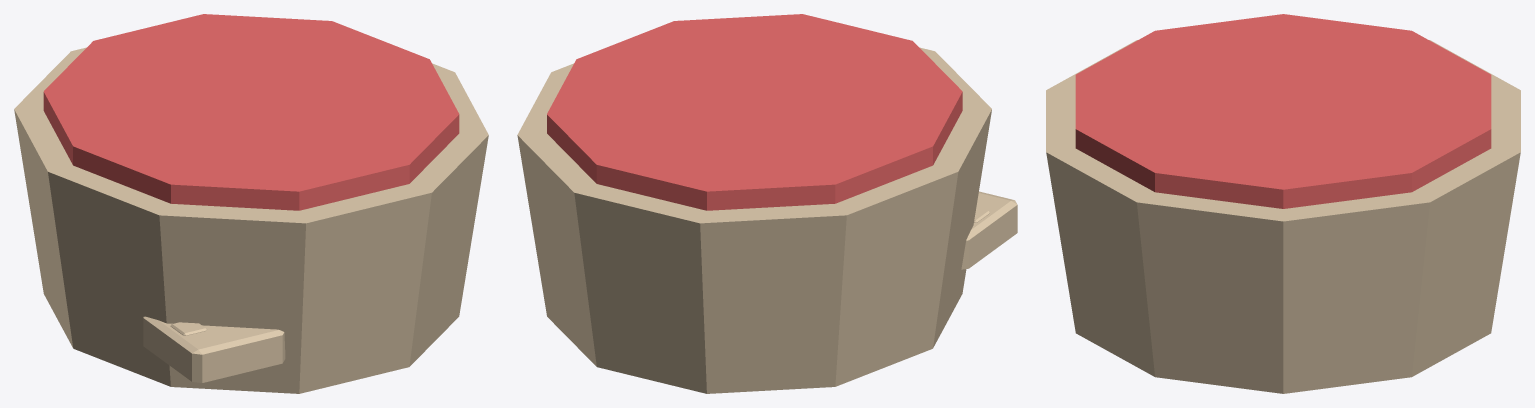
File: b16_lidded_salad_bowl.glb
3 views of the same model, side by side, from view 1: azimuth 30°, elevation 25°; view 2: azimuth 150°, elevation 25°; view 3: azimuth 270°, elevation 25° (orthographic).
Parts seen in each view (by area): view 1: b16_lidded_salad_bowl; view 2: b16_lidded_salad_bowl; view 3: b16_lidded_salad_bowl.
Part boxes in pixels (bbox=[...]): b16_lidded_salad_bowl: bbox=[14, 14, 488, 393]; b16_lidded_salad_bowl: bbox=[517, 14, 1017, 393]; b16_lidded_salad_bowl: bbox=[1046, 14, 1520, 393].
Size of the model in its own units: 0.16 by 0.076 by 0.16.
